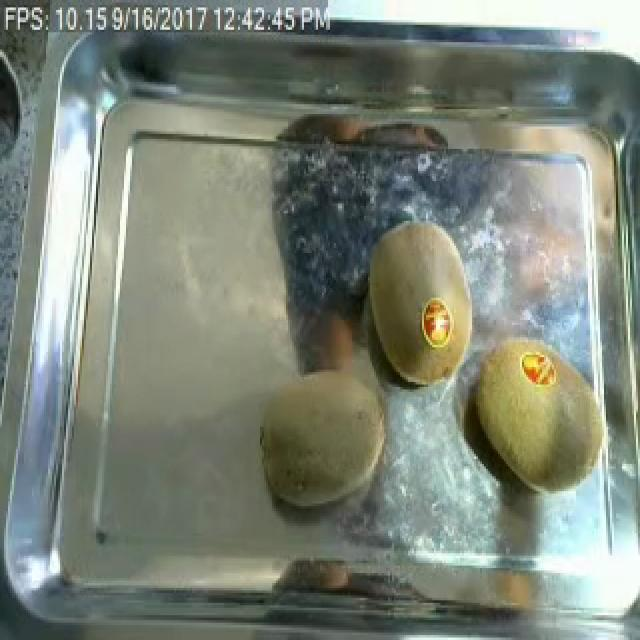Fruit: (462, 330, 616, 503), (250, 355, 398, 516), (356, 211, 484, 397)
